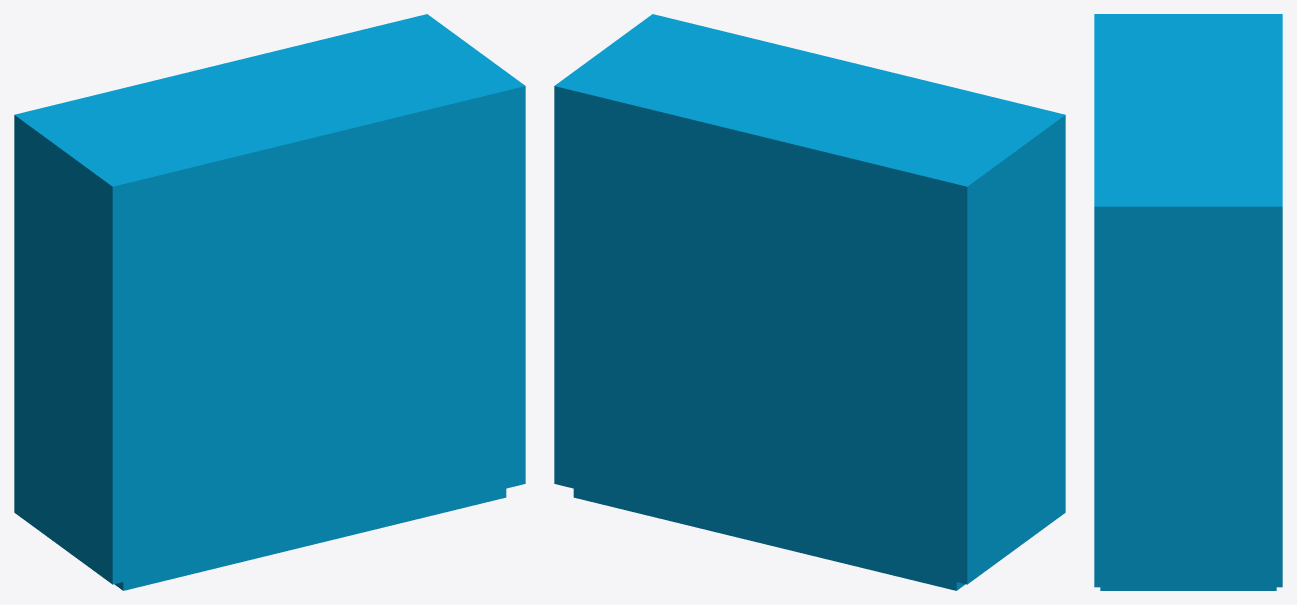
File: Computer_Lod.fbx
3 renders of one model, left to right at view 1: azimuth 30°, elevation 25°; view 2: azimuth 150°, elevation 25°; view 3: azimuth 270°, elevation 25°, orthographic. The views are drawn at different scales.
Visible parts, largest first — view 1: Computer_Lod; view 2: Computer_Lod; view 3: Computer_Lod.
Part boxes in pixels (x1,y1,x2,y2): Computer_Lod: [14, 14, 525, 590]; Computer_Lod: [554, 14, 1065, 590]; Computer_Lod: [1094, 14, 1282, 590].
Size of the model in its own units: 46.77 by 44.35 by 19.29.
